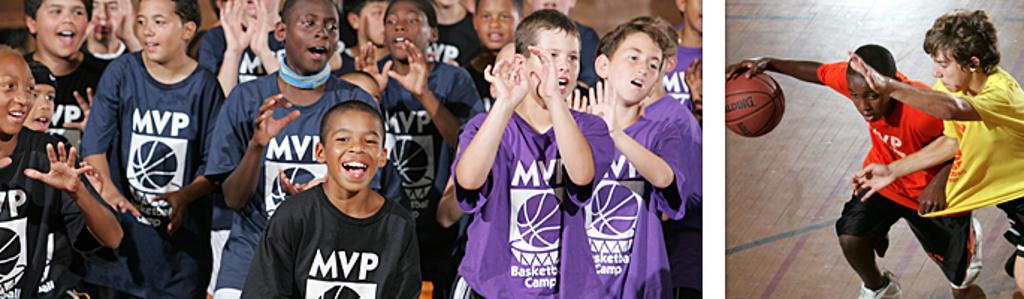face: (326, 112, 383, 192), (526, 27, 580, 108), (609, 32, 663, 103), (288, 2, 340, 72), (37, 1, 88, 57), (1, 52, 36, 133), (136, 1, 183, 61), (387, 3, 431, 59), (847, 73, 891, 122), (478, 1, 520, 49), (932, 47, 972, 94), (22, 80, 54, 133), (87, 1, 125, 42), (360, 3, 393, 45), (526, 1, 573, 29), (230, 1, 275, 23), (687, 1, 709, 32)
